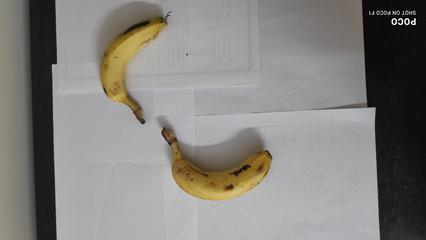banana: (97, 15, 164, 115), (165, 156, 285, 203)
